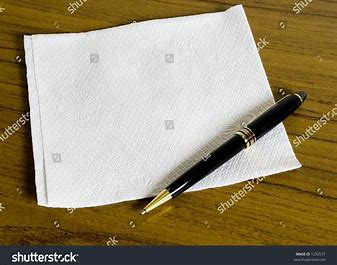pen: (138, 88, 309, 218)
